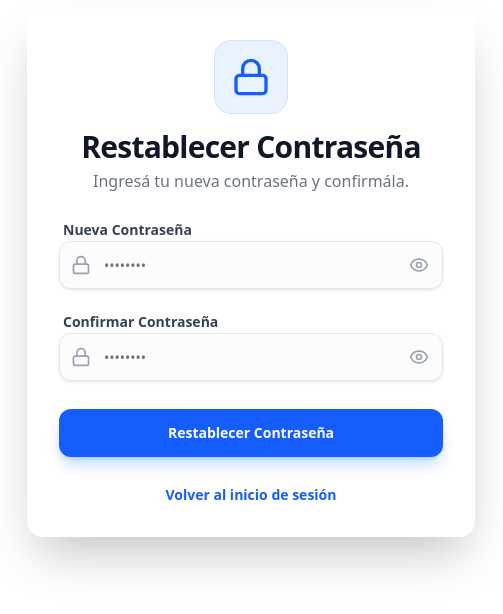
Scenario: Password Reset Confirm Page › displays validation errors if password is invalid and don't match
Type "12345678#" into the password field labelled "Nueva Contraseña" at (251, 265), box [59, 241, 443, 289]
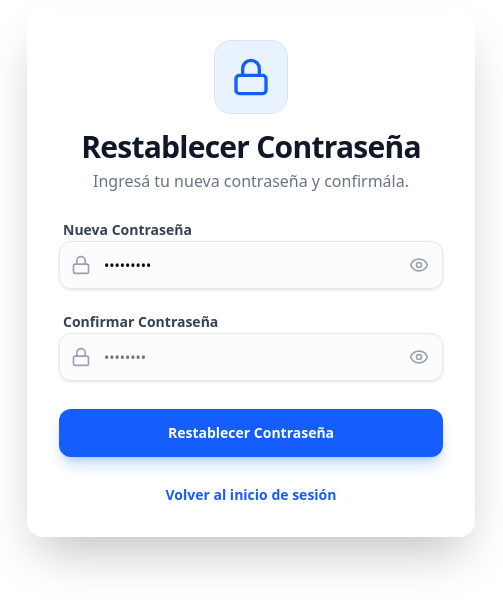
Type "45678#" into the password field labelled "Confirmar Contraseña" at (251, 357), box [59, 333, 443, 381]
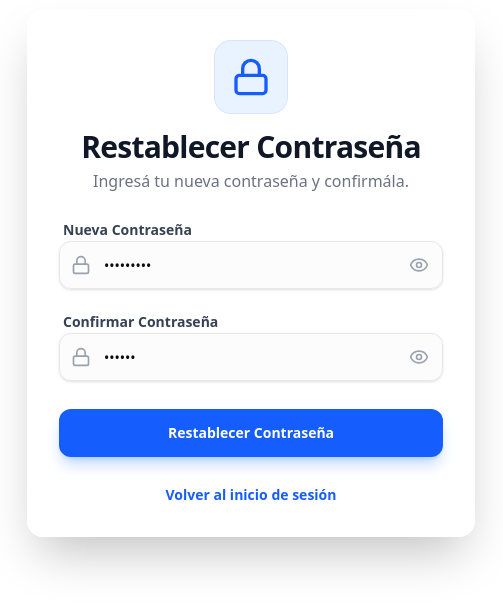
Click the button "Restablecer Contraseña" at (251, 433), box [59, 409, 443, 457]
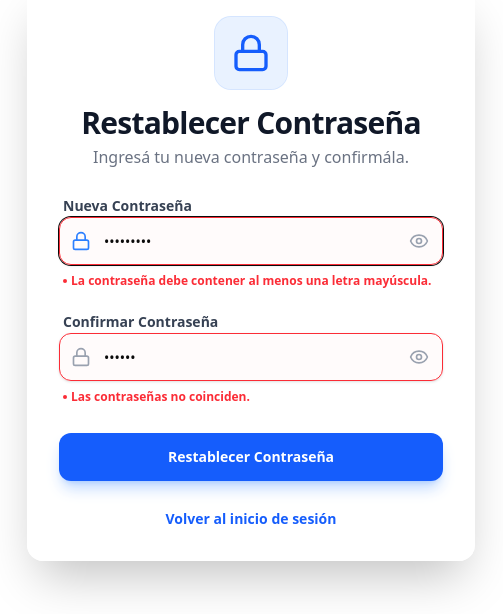
Expected: the text "La contraseña debe contener al menos una letra mayúscula." is shown, [63, 273, 443, 289]
Expected: the text "Las contraseñas no coinciden." is shown, [63, 388, 250, 405]
